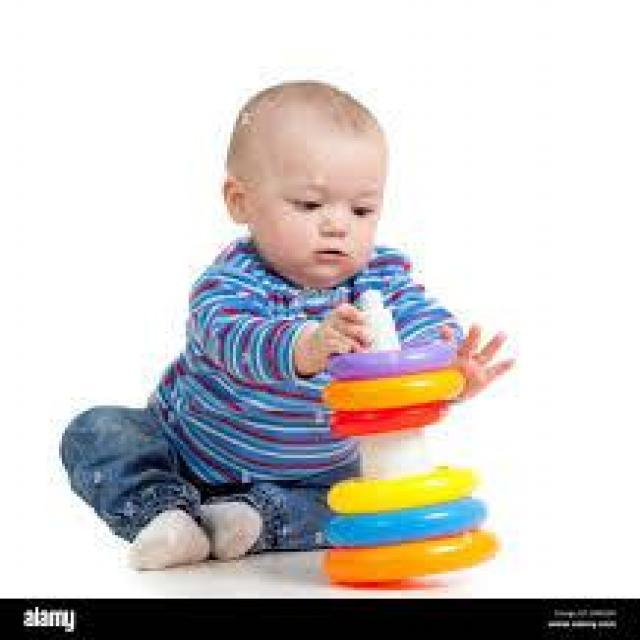child: (56, 72, 513, 582)
